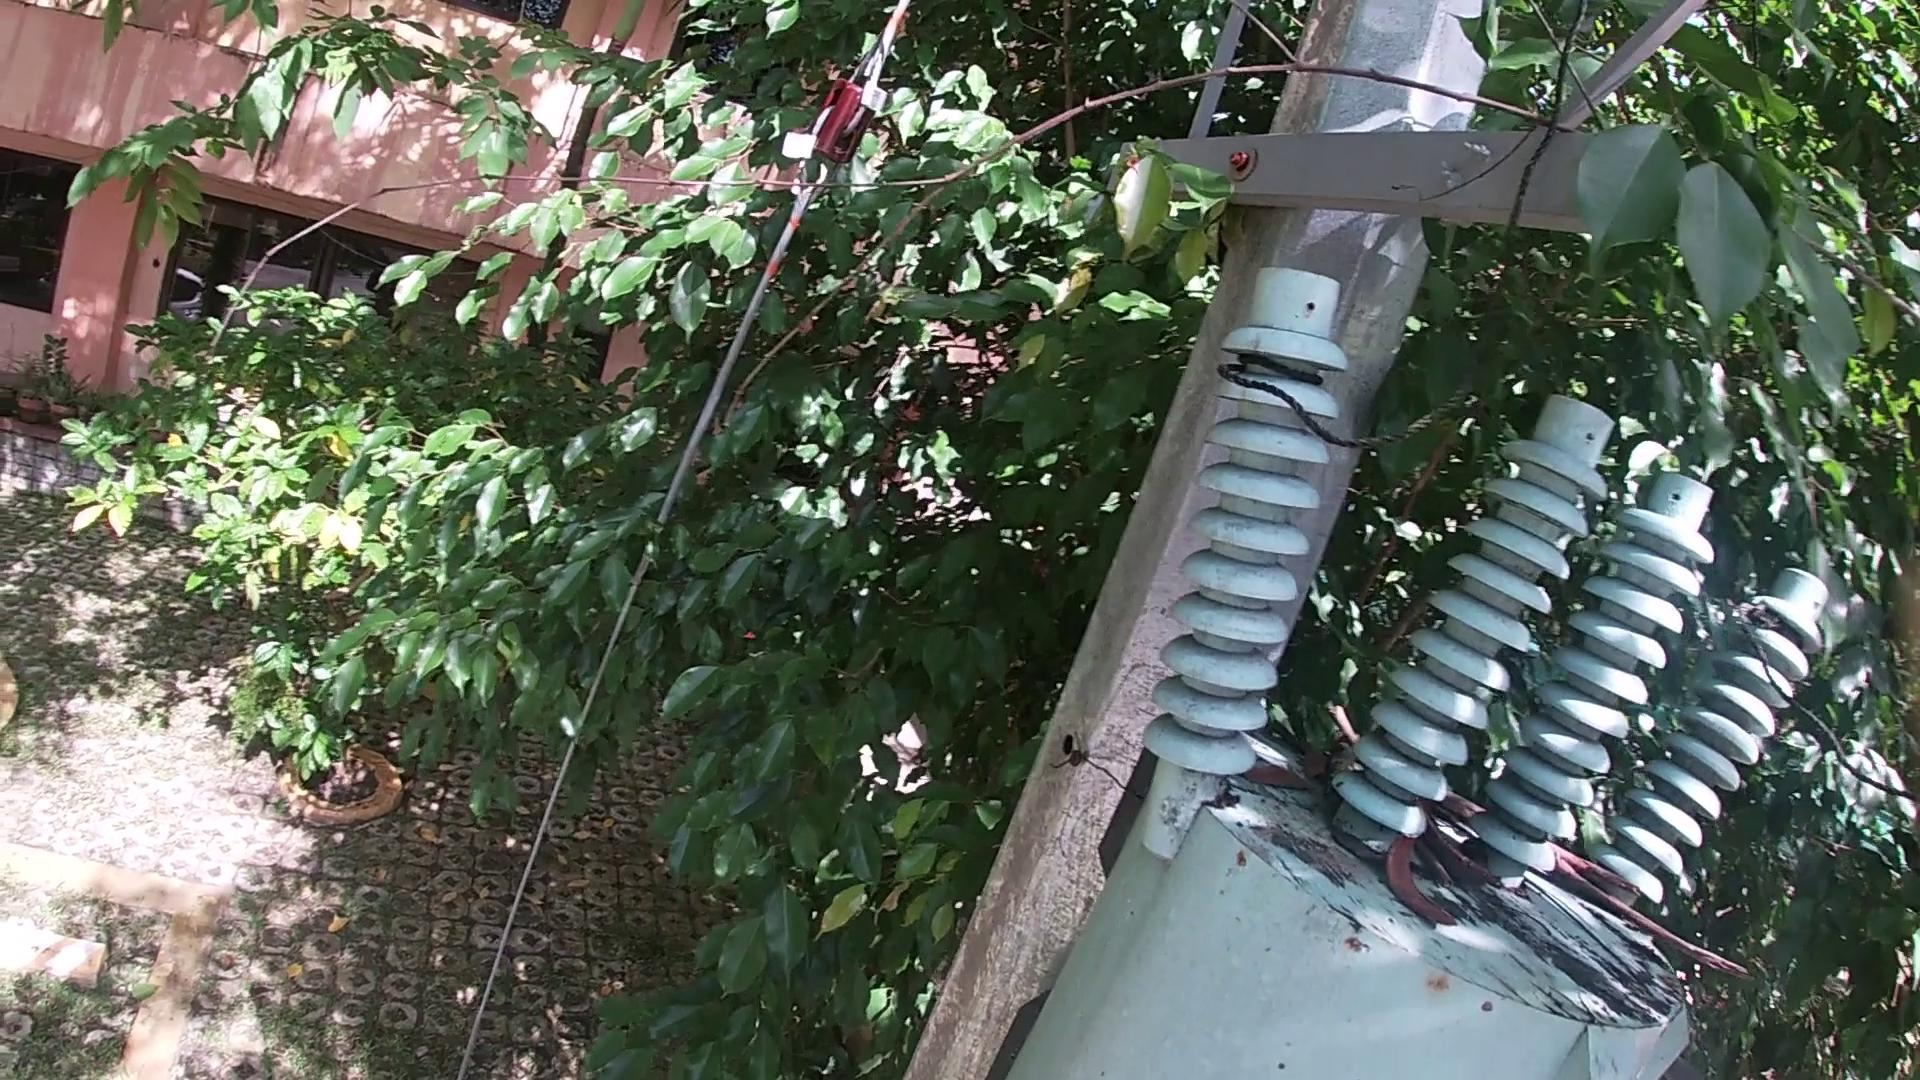leaf: (1338, 827, 1385, 865), (1246, 767, 1316, 785)
mahogany fruit: (1374, 832, 1466, 930), (1429, 822, 1516, 893)
tree branch: (127, 1, 1648, 436), (1557, 849, 1749, 972), (1422, 843, 1465, 894), (1329, 724, 1352, 798), (1329, 698, 1364, 738), (1437, 790, 1484, 819)
